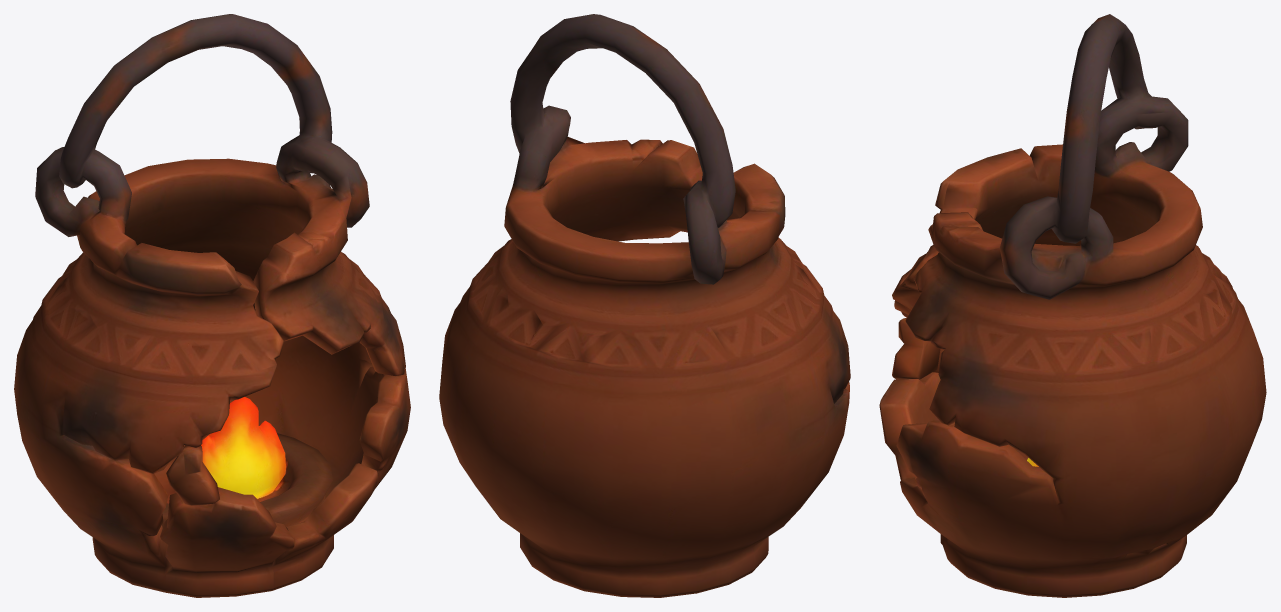
Rendered from tll_ch2_lantern.glb.
3 views of the same model, side by side, from view 1: azimuth 30°, elevation 25°; view 2: azimuth 150°, elevation 25°; view 3: azimuth 270°, elevation 25° (orthographic). The views are drawn at different scales.
Parts seen in each view (by area): view 1: tripo_node_14091b16-b669-462a-b762-8a3acab8a0cf; view 2: tripo_node_14091b16-b669-462a-b762-8a3acab8a0cf; view 3: tripo_node_14091b16-b669-462a-b762-8a3acab8a0cf.
Boxes of the visible parts, left/top/right/bottom form: tripo_node_14091b16-b669-462a-b762-8a3acab8a0cf: left=14, top=14, right=410, bottom=597; tripo_node_14091b16-b669-462a-b762-8a3acab8a0cf: left=439, top=14, right=850, bottom=597; tripo_node_14091b16-b669-462a-b762-8a3acab8a0cf: left=879, top=14, right=1266, bottom=597.
Size of the model in its own units: 0.686 by 0.9765 by 0.6516.
Materials: 2 (2 with a texture image).
